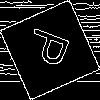P: (25, 25, 79, 73)
